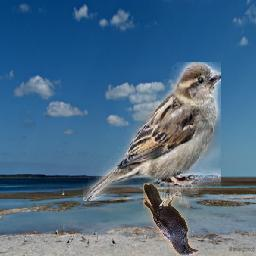Crow: (144, 183, 199, 255)
Sparrow: (83, 63, 221, 202)
